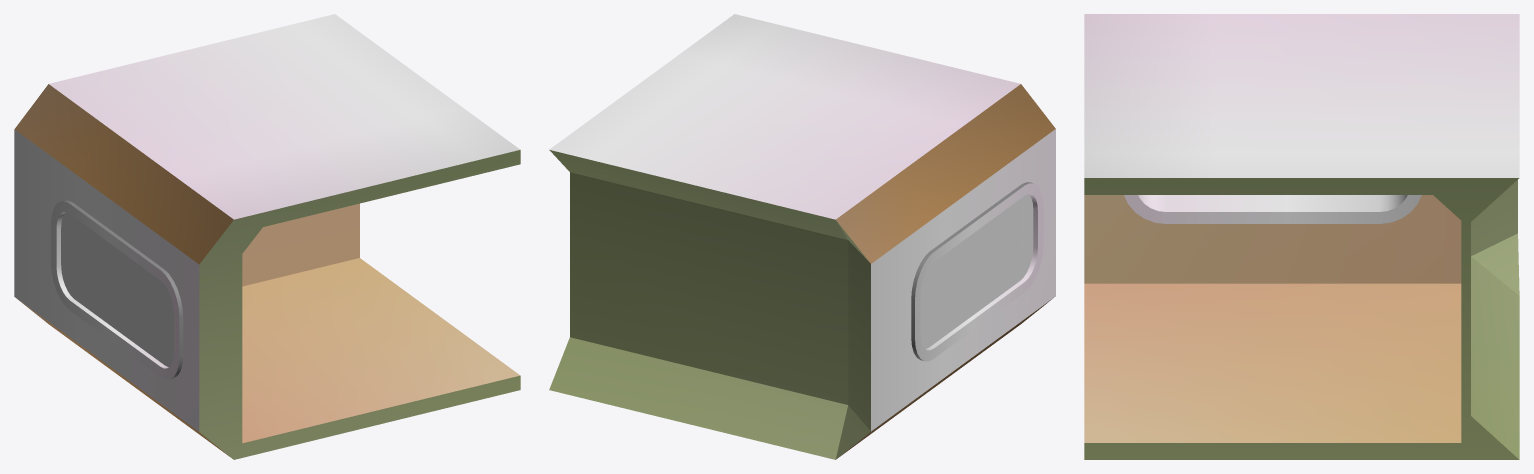
Rendered from R_OutWall_Window_R.fbx.
3 renders of one model, left to right at view 1: azimuth 30°, elevation 25°; view 2: azimuth 150°, elevation 25°; view 3: azimuth 270°, elevation 25°, orthographic. The views are drawn at different scales.
Parts seen in each view (by area): view 1: R_OutWall_Window_R; view 2: R_OutWall_Window_R; view 3: R_OutWall_Window_R.
Part boxes in pixels (box(x1,y1,x2,y2)): R_OutWall_Window_R: box(14, 14, 520, 459); R_OutWall_Window_R: box(549, 14, 1055, 459); R_OutWall_Window_R: box(1084, 14, 1519, 459).
Bounding box in the file's own units: 467 × 330 × 462.
